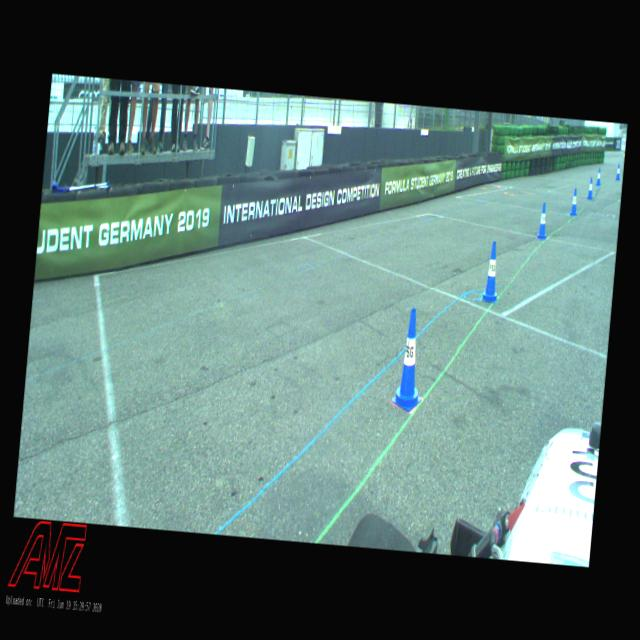blue_cone: (391, 306, 428, 412), (481, 240, 502, 302), (536, 202, 549, 238), (570, 188, 578, 215), (586, 177, 594, 199), (595, 167, 601, 185), (615, 163, 621, 180)
yellow_cone: (622, 150, 624, 157)
